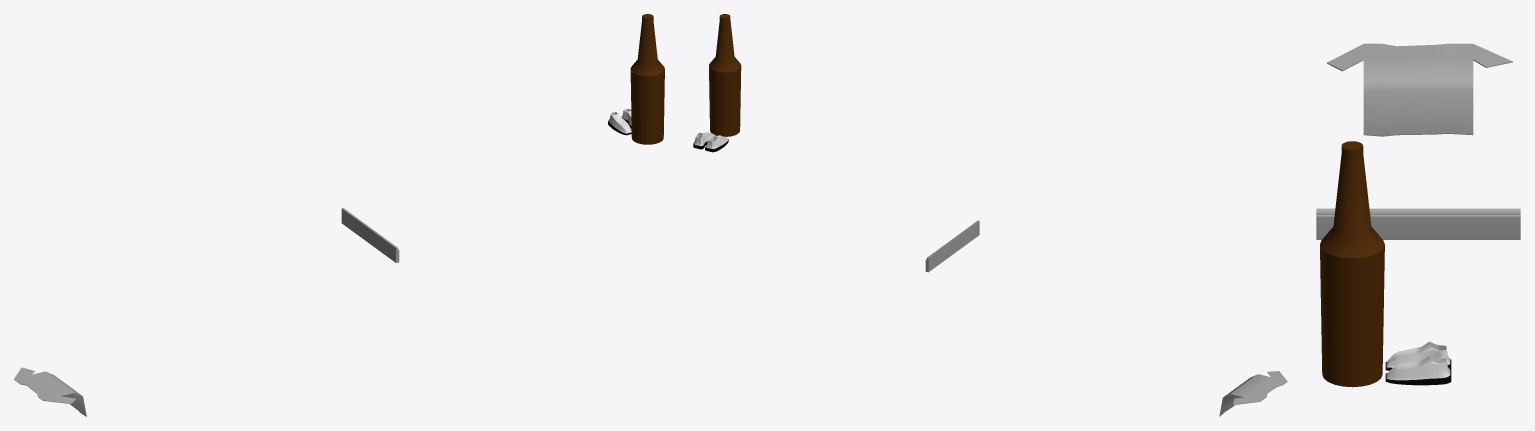
File: Beer.fbx
3 renders of one model, left to right at view 1: azimuth 30°, elevation 25°; view 2: azimuth 150°, elevation 25°; view 3: azimuth 270°, elevation 25°, orthographic. The views are drawn at different scales.
Visible parts, largest first — view 1: pCylinder1, pCube2, pCube1; view 2: pCylinder1, pCube2, pCube1; view 3: pCylinder1, pCube2, pCube1, pasted__pCube4 (×2).
Boxes of the visible parts, bbox=[...] form: pCylinder1: bbox=[630, 14, 664, 144]; pCube2: bbox=[14, 367, 86, 416]; pCube1: bbox=[341, 208, 399, 262]; pCylinder1: bbox=[709, 14, 741, 136]; pCube2: bbox=[1219, 371, 1287, 416]; pCube1: bbox=[925, 220, 979, 272]; pCylinder1: bbox=[1320, 141, 1384, 387]; pCube2: bbox=[1327, 43, 1512, 136]; pCube1: bbox=[1316, 208, 1520, 239]; pasted__pCube4 (×2): bbox=[1385, 341, 1451, 385].
Size of the model in its own units: 126 by 52.36 by 19.28.
